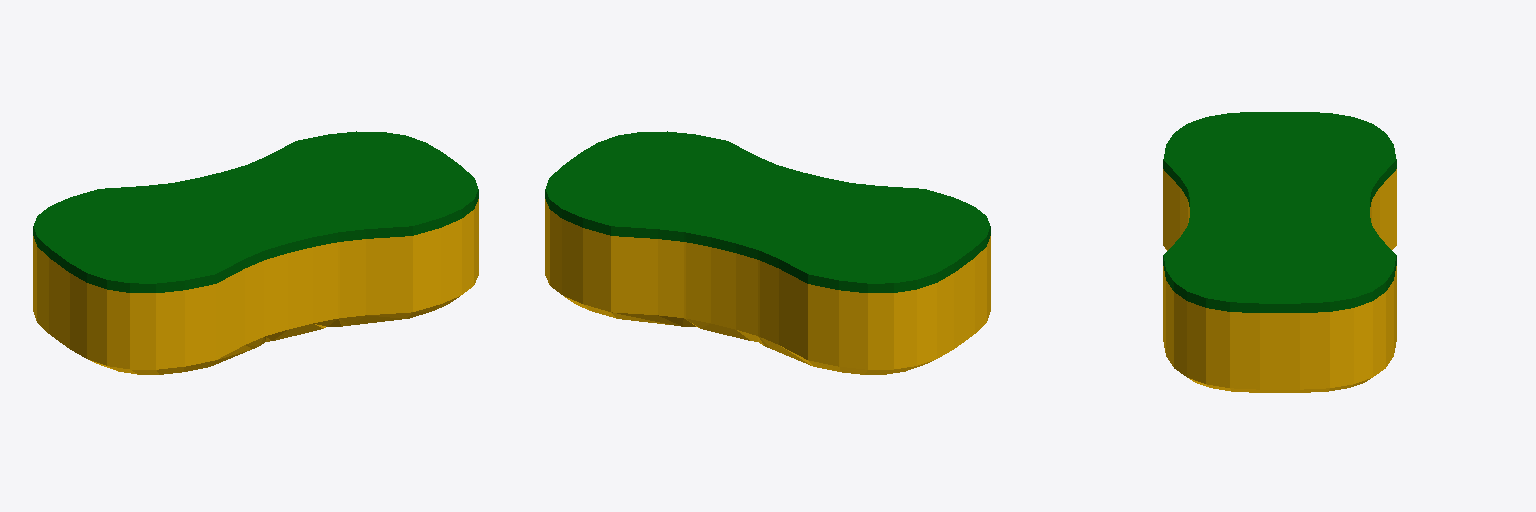
File: Sponge.obj
3 views of the same model, side by side, from view 1: azimuth 30°, elevation 25°; view 2: azimuth 150°, elevation 25°; view 3: azimuth 270°, elevation 25° (orthographic).
Visible parts, largest first — view 1: Box001; view 2: Box001; view 3: Box001.
Boxes of the visible parts, box(x1,y1,x2,y2) form: Box001: box(33, 131, 478, 374); Box001: box(545, 131, 990, 374); Box001: box(1163, 112, 1396, 392).
Bounding box in the file's own units: 319956 × 75304 × 164287.